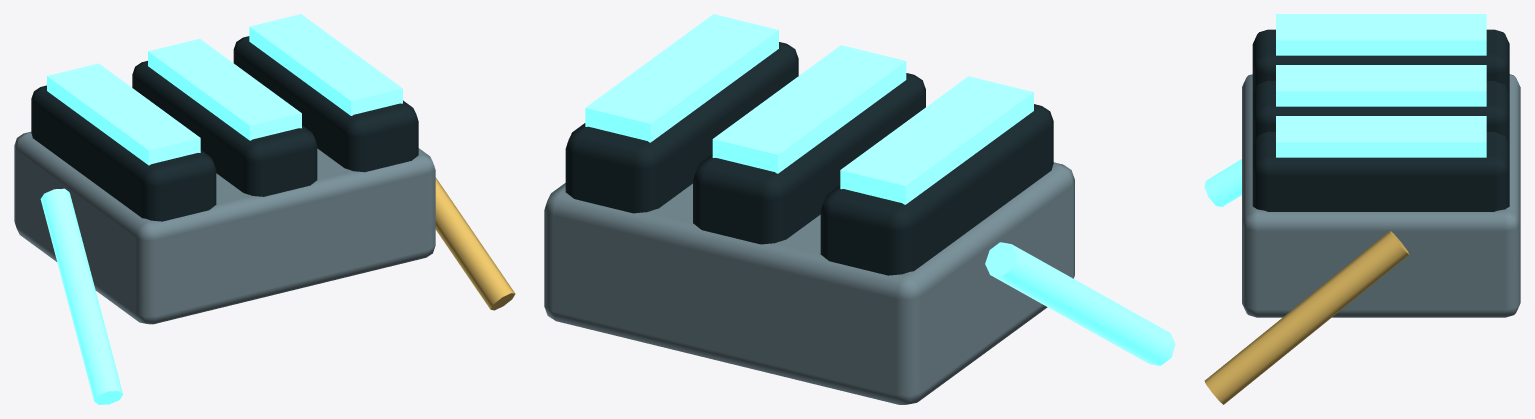
Rendered from upgrade-ev_conversion.glb.
3 views of the same model, side by side, from view 1: azimuth 30°, elevation 25°; view 2: azimuth 150°, elevation 25°; view 3: azimuth 270°, elevation 25° (orthographic). The views are drawn at different scales.
Parts seen in each view (by area): view 1: upgrade-ev_conversion; view 2: upgrade-ev_conversion; view 3: upgrade-ev_conversion.
Boxes of the visible parts, box(x1,y1,x2,y2) form: upgrade-ev_conversion: box(14, 14, 515, 404); upgrade-ev_conversion: box(544, 14, 1175, 404); upgrade-ev_conversion: box(1204, 14, 1520, 404).
Size of the model in its own units: 1.61 by 0.8062 by 1.02.
